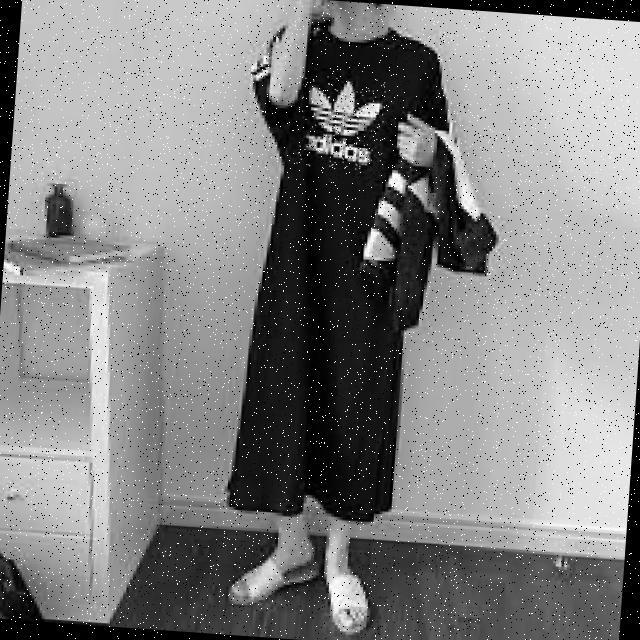Adidas: (296, 74, 388, 172)
